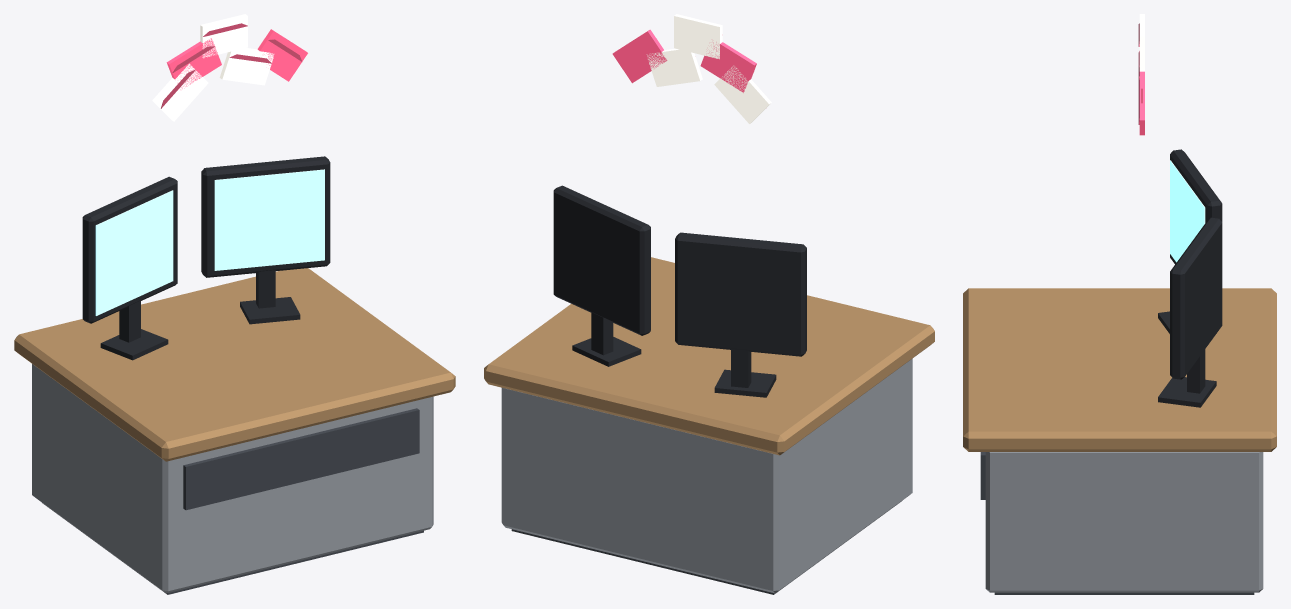
File: replyall_p1_3.glb
3 renders of one model, left to right at view 1: azimuth 30°, elevation 25°; view 2: azimuth 150°, elevation 25°; view 3: azimuth 270°, elevation 25°, orthographic. The views are drawn at different scales.
Parts seen in each view (by area): view 1: replyall_p1_3_mesh_Desk, replyall_p1_3_mesh; view 2: replyall_p1_3_mesh_Desk, replyall_p1_3_mesh; view 3: replyall_p1_3_mesh_Desk, replyall_p1_3_mesh.
Part boxes in pixels (box(x1,y1,x2,y2)): replyall_p1_3_mesh_Desk: box(14, 268, 455, 594); replyall_p1_3_mesh: box(82, 14, 330, 360); replyall_p1_3_mesh_Desk: box(484, 257, 934, 594); replyall_p1_3_mesh: box(553, 14, 806, 397); replyall_p1_3_mesh_Desk: box(963, 288, 1276, 594); replyall_p1_3_mesh: box(1138, 14, 1222, 407).
Bounding box in the file's own units: 0.78 × 1.24 × 0.7.
